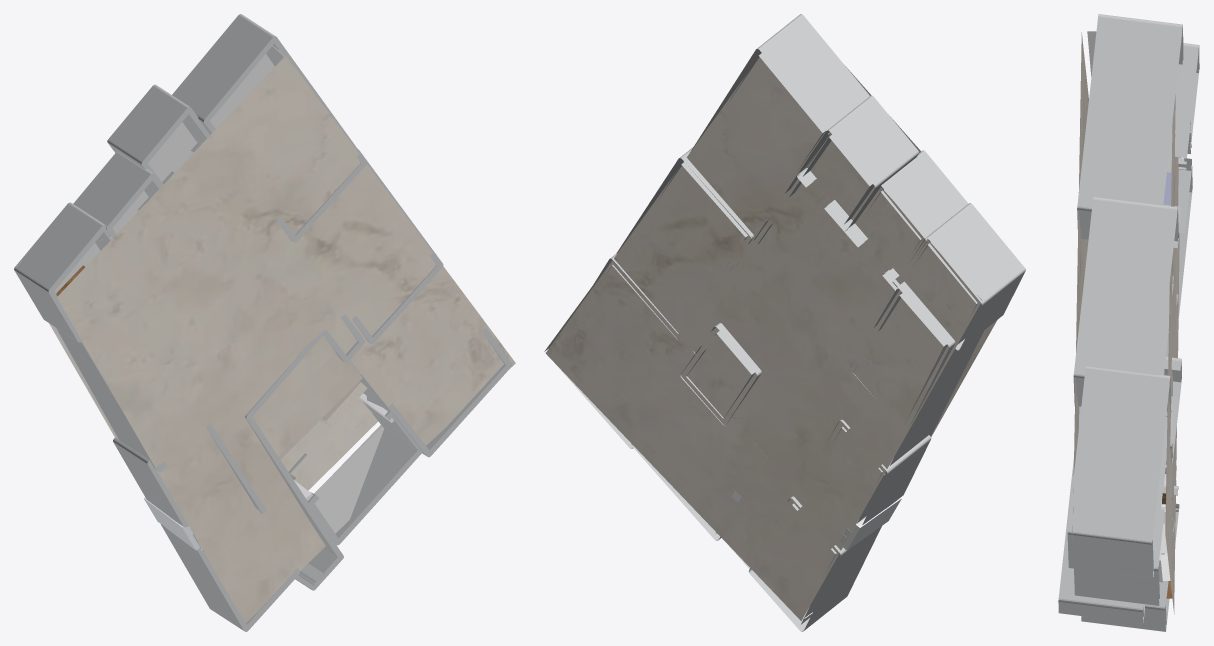
File: 1st_floor_up_opt.glb
3 renders of one model, left to right at view 1: azimuth 30°, elevation 25°; view 2: azimuth 150°, elevation 25°; view 3: azimuth 270°, elevation 25°, orthographic. The views are drawn at different scales.
Parts seen in each view (by area): view 1: Geom3D.027, Geom3D.041, Geom3D_Geom3D.560_Defintion#2_Geom3D.560, Geom3D.193, Geom3D.189; view 2: Geom3D.193, Geom3D.041, Geom3D.027; view 3: Geom3D.041, Geom3D.193, Geom3D.027, Geom3D_Geom3D.560_Defintion#2_Geom3D.560, Geom3D.165.
Boxes of the visible parts, <box> form: Geom3D.027: <box>57,55,515,622</box>; Geom3D.041: <box>14,14,512,631</box>; Geom3D_Geom3D.560_Defintion#2_Geom3D.560: <box>52,46,384,550</box>; Geom3D.193: <box>16,261,378,490</box>; Geom3D.189: <box>144,497,199,550</box>; Geom3D.193: <box>545,57,982,620</box>; Geom3D.041: <box>556,14,1025,631</box>; Geom3D.027: <box>845,66,997,436</box>; Geom3D.041: <box>1058,14,1199,631</box>; Geom3D.193: <box>1165,94,1180,614</box>; Geom3D.027: <box>1072,32,1088,542</box>; Geom3D_Geom3D.560_Defintion#2_Geom3D.560: <box>1079,31,1176,582</box>; Geom3D.165: <box>1163,169,1171,205</box>.
Bounding box in the file's own units: 0.7114 × 0.874 × 0.1764.
Materials: 19 (19 with a texture image).
